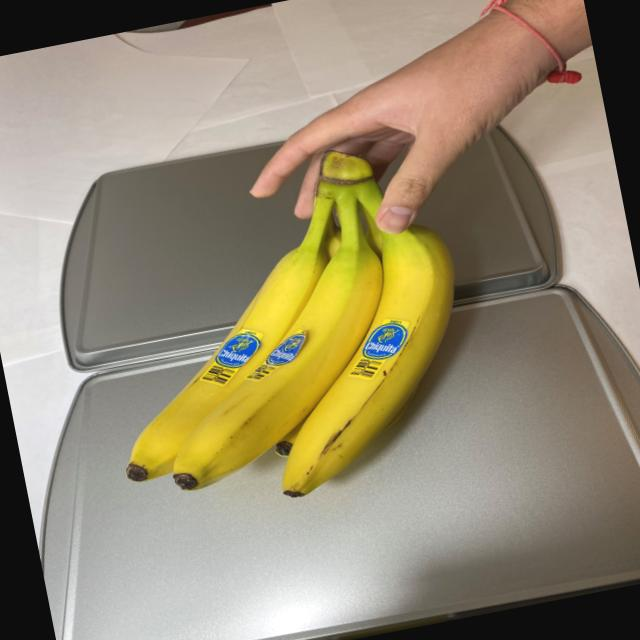banana: (70, 131, 497, 528)
